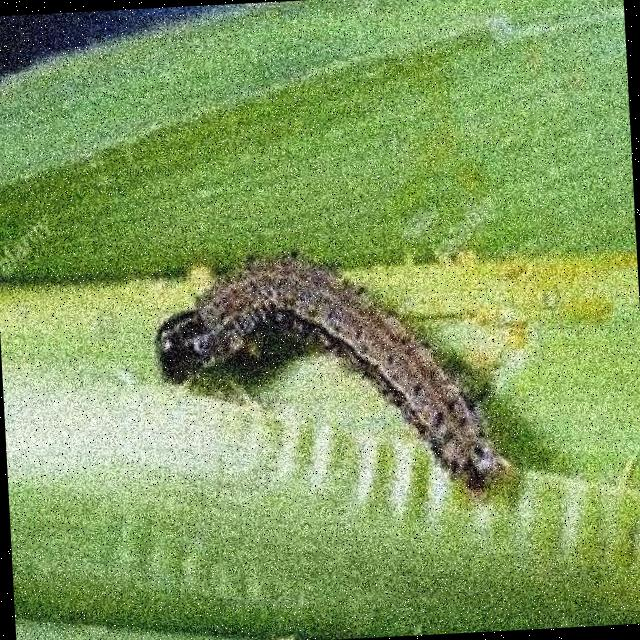worm: (150, 238, 515, 514)
